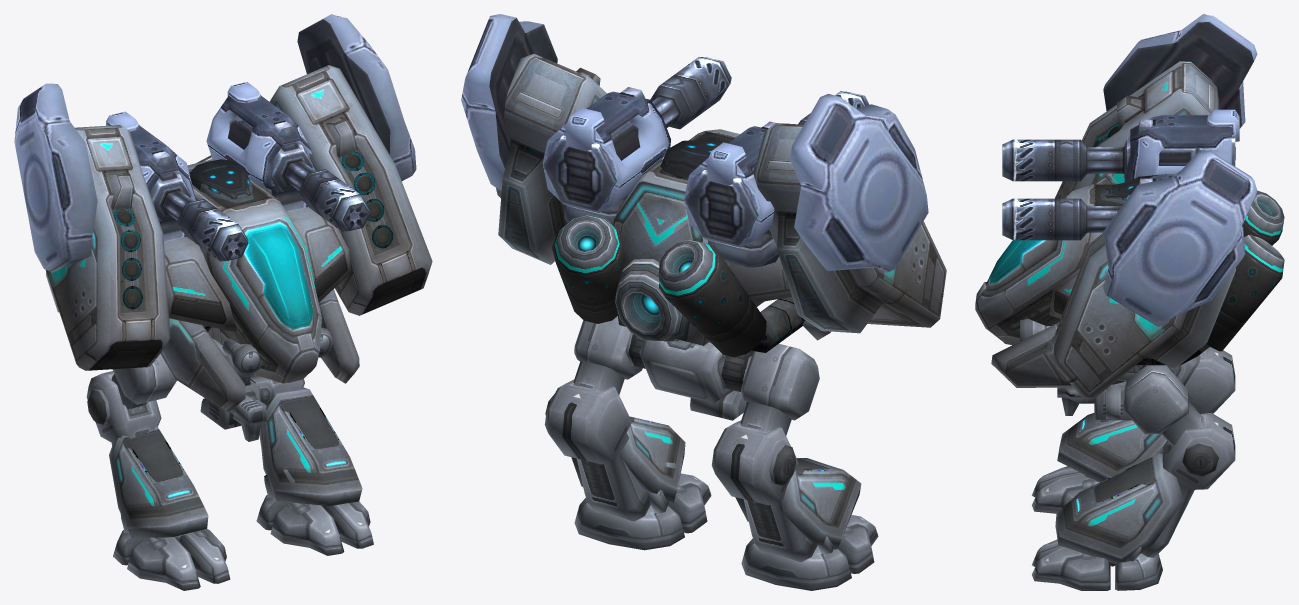
File: Goliath_Umojan.glb
3 views of the same model, side by side, from view 1: azimuth 30°, elevation 25°; view 2: azimuth 150°, elevation 25°; view 3: azimuth 270°, elevation 25° (orthographic). The views are drawn at different scales.
Parts seen in each view (by area): view 1: Mesh.002, MERCENARY_Goliath_Torso.003, Mesh.001, Mesh, MERCENARY_Goliath_Torso.002, MERCENARY_Goliath_Torso.001, Bone Barrel L, Bone Barrel R, MERCENARY_Goliath_Torso; view 2: Mesh.002, Mesh.001, Mesh, MERCENARY_Goliath_Torso.002, MERCENARY_Goliath_Torso.003, MERCENARY_Goliath_Torso.001, Bone Barrel L, MERCENARY_Goliath_Torso; view 3: Mesh.002, Mesh, Mesh.001, MERCENARY_Goliath_Torso.003, MERCENARY_Goliath_Torso.001, Bone Barrel R, Bone Barrel L, MERCENARY_Goliath_Torso.
Boxes of the visible parts, x1,y1,x2,y2 form: Mesh.002: (45,65,432,538); MERCENARY_Goliath_Torso.003: (160,159,359,412); Mesh.001: (86,327,373,590); Mesh: (14,14,416,272); MERCENARY_Goliath_Torso.002: (206,82,312,212); MERCENARY_Goliath_Torso.001: (106,111,195,241); Bone Barrel L: (283,160,370,231); Bone Barrel R: (162,190,248,261); MERCENARY_Goliath_Torso: (189,159,253,203); Mesh.002: (496,53,946,549); Mesh.001: (544,316,878,590); Mesh: (461,14,928,272); MERCENARY_Goliath_Torso.002: (542,87,670,223); MERCENARY_Goliath_Torso.003: (612,129,830,352); MERCENARY_Goliath_Torso.001: (684,121,778,267); Bone Barrel L: (650,57,731,129); MERCENARY_Goliath_Torso: (660,136,730,178); Mesh.002: (1054,61,1284,564); Mesh: (1103,14,1257,326); Mesh.001: (1020,319,1235,590); MERCENARY_Goliath_Torso.003: (975,183,1209,387); MERCENARY_Goliath_Torso.001: (1124,109,1239,182); Bone Barrel R: (1002,139,1123,181); Bone Barrel L: (1002,198,1121,240); MERCENARY_Goliath_Torso: (1100,174,1166,204).
Bounding box in the file's own units: 2.93 × 3.56 × 2.22.
9 materials, 9 textured.
